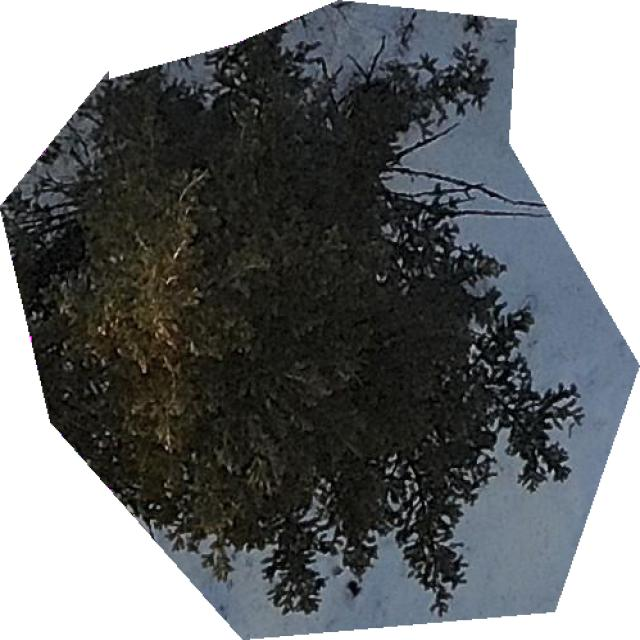pine: (0, 1, 625, 637)
